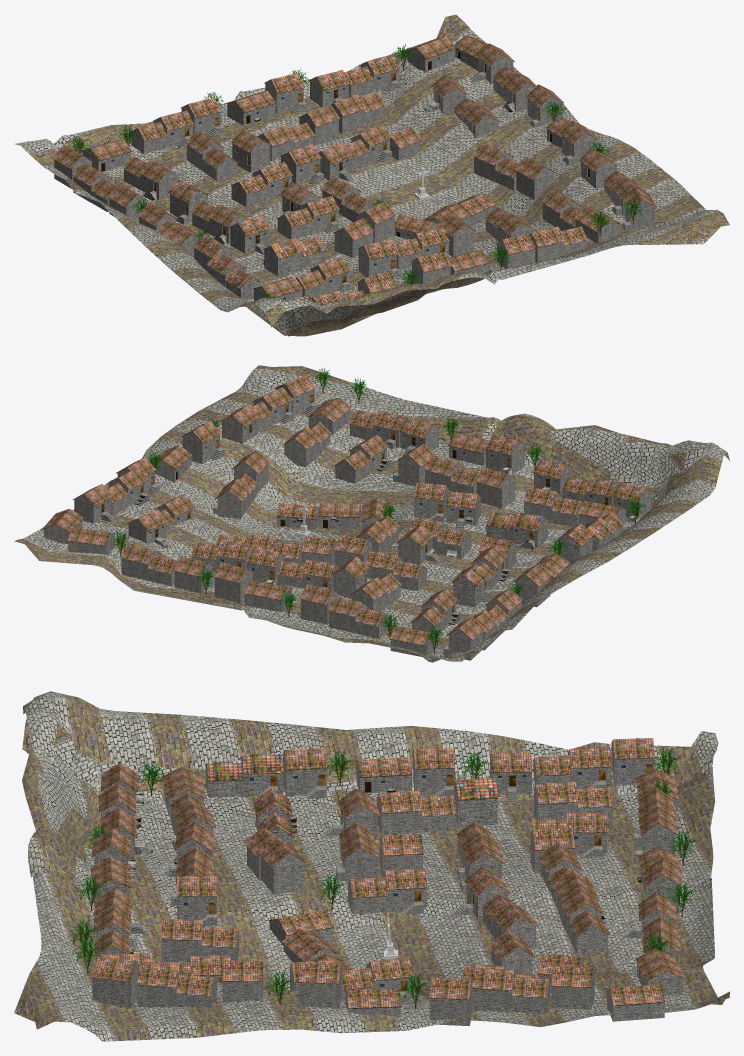
Rendered from room4.fbx.
3 views of the same model, one above another, from view 1: azimuth 30°, elevation 25°; view 2: azimuth 150°, elevation 25°; view 3: azimuth 270°, elevation 25° (orthographic). The views are drawn at different scales.
Parts seen in each view (by area): view 1: chao, Cube.132, Cube.195, Cube.144, Cube.148, Cube.197, Cube.193, Cube.209, Cube.219, Cube.152, Cube.175, Cube.115 (+51 smaller); view 2: chao, Cube.195, Cube.132, Cube.193, Cube.115, Cube.150, Cube.148, Cube.214, Cube.125, Cube.152, Cube.156, Cube.175 (+53 smaller); view 3: chao, Cube.142, Cube.191, Cube.171, Cube.161, Cube.101, Cube.150, Cube.110, Cube.219, Cube.209, Cube.136, Cube.159 (+51 smaller).
Part boxes in pixels (x1,y1,x2,y2): chao: (14,14,729,336); Cube.132: (263,237,325,276); Cube.195: (131,110,193,153); Cube.144: (277,195,339,239); Cube.148: (231,161,292,207); Cube.197: (185,131,238,180); Cube.193: (344,55,400,97); Cube.209: (330,92,386,133); Cube.219: (123,156,179,199); Cube.152: (530,226,587,262); Cube.175: (473,142,519,190); Cube.115: (296,257,350,297); chao: (14,365,729,662); Cube.195: (328,596,390,638); Cube.132: (486,511,548,547); Cube.193: (120,543,178,585); Cube.115: (523,487,582,526); Cube.150: (334,434,388,483); Cube.148: (365,550,427,591); Cube.214: (277,559,339,589); Cube.125: (424,455,479,493); Cube.152: (349,410,406,447); Cube.156: (283,422,331,467); Cube.175: (216,473,257,518); chao: (14,691,729,1041); Cube.142: (376,790,456,835); Cube.191: (471,968,550,1013); Cube.171: (347,868,427,914); Cube.161: (136,964,217,1007); Cube.101: (205,753,283,797); Cube.150: (161,919,238,962); Cube.110: (533,747,611,788); Cube.219: (533,782,612,822); Cube.209: (560,886,609,953); Cube.136: (258,836,306,894); Cube.159: (91,957,139,1007).
Bounding box in the file's own units: 164 × 24.18 × 160.
